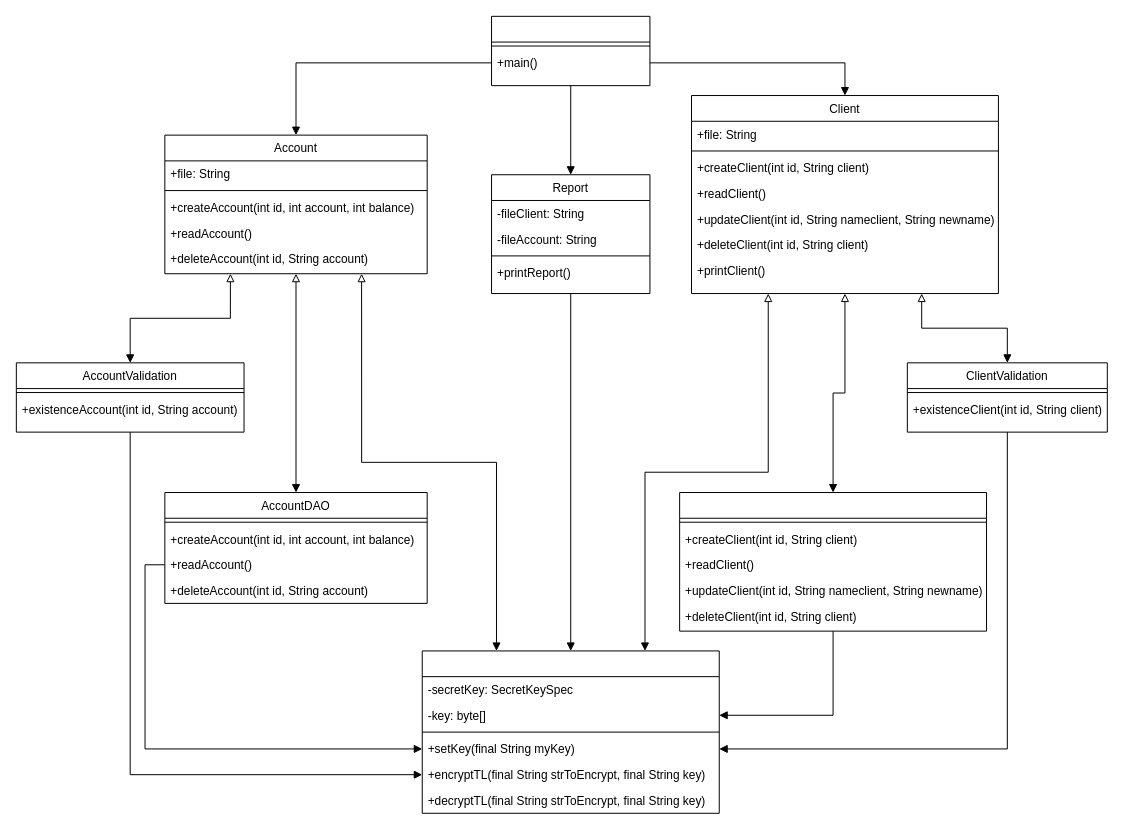
The diagram is 1124 pixels wide and 830 high, and some of its shapes have lost their labels. The shapes that lost their labels are listed below. From the top down, each one's box as (x1, y1, x2, y2) in pixels, then its label:
(491, 15, 650, 86): Bank
(679, 492, 987, 631): ClientDAO
(421, 650, 719, 813): Algotiyhm
